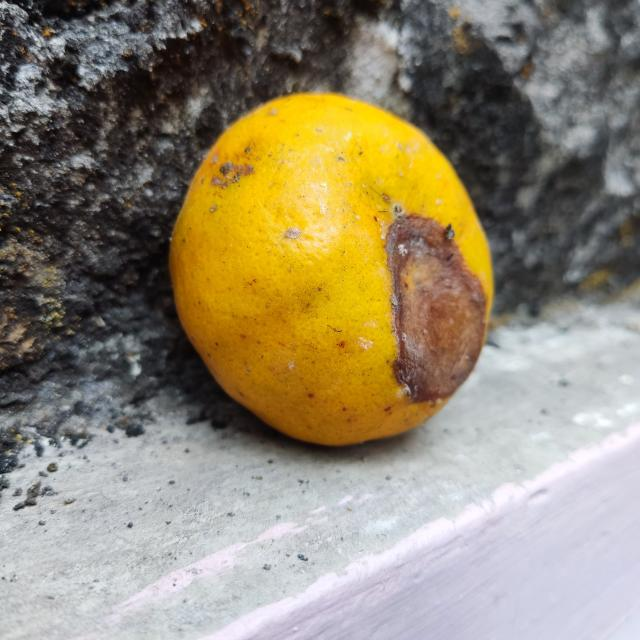orange: (170, 92, 494, 447)
